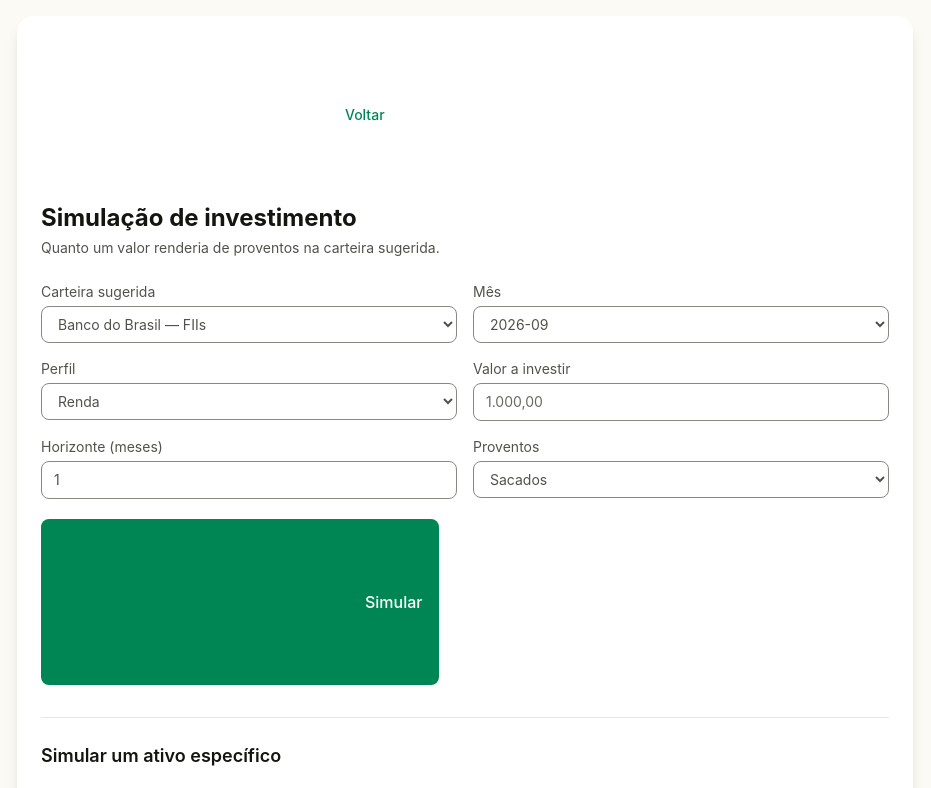
Test: SimulationComponent › deve mostrar a mensagem de erro devolvida pela API
Type "1000" into the field labelled "Valor a investir" at (681, 402), box [473,383,889,421]
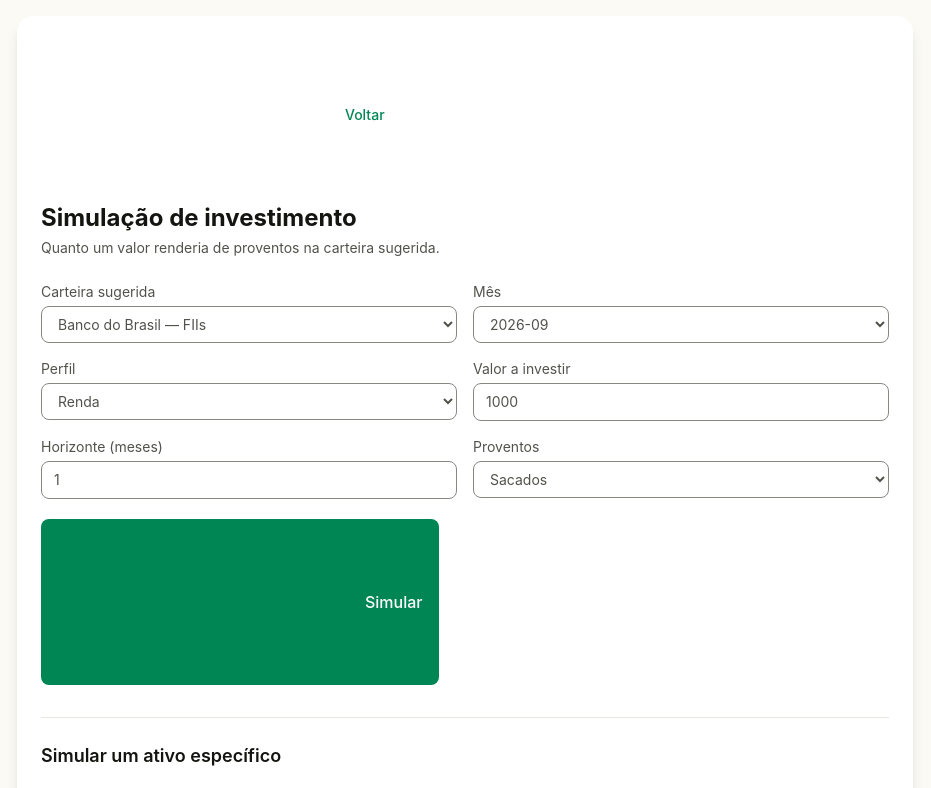
Click the button with test id "simulate-button" at (240, 602), box [41,519,438,685]
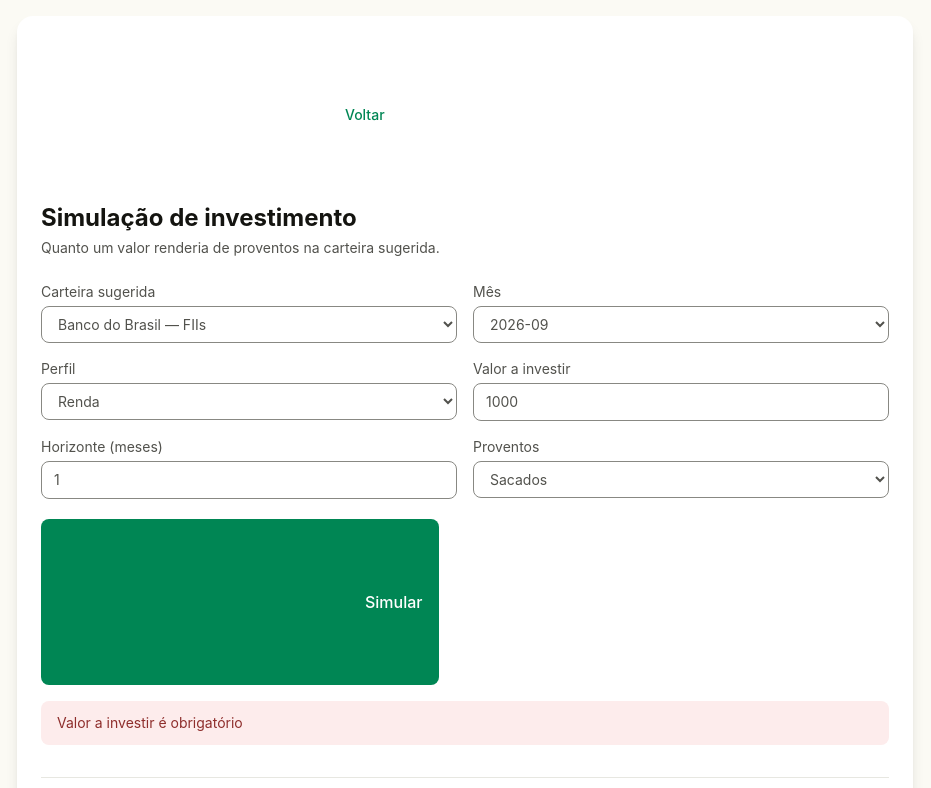
Result: the text with test id "simulation-error" reads "Valor a investir é obrigatório" at [57,714,243,731]
